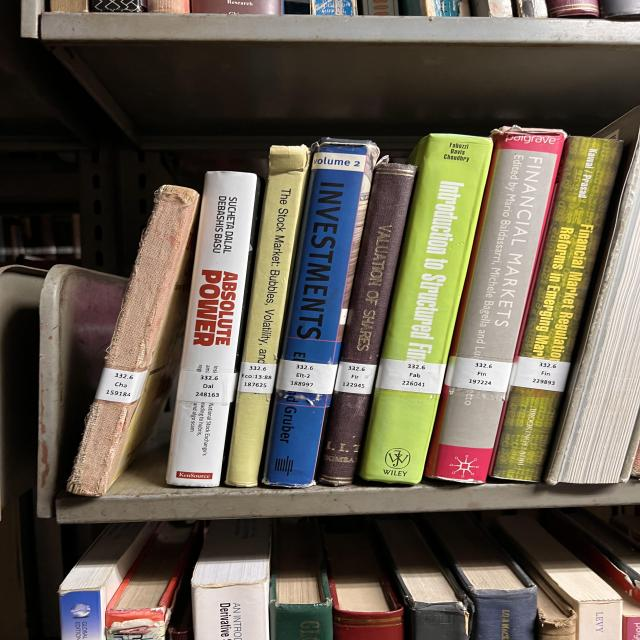Book: (425, 126, 567, 484), (360, 134, 492, 484), (493, 136, 623, 481), (67, 185, 200, 496), (262, 139, 380, 488), (318, 162, 417, 486), (225, 145, 310, 488), (167, 171, 258, 488)
Label: (377, 359, 447, 394), (448, 356, 512, 392), (277, 359, 338, 394), (512, 356, 570, 392), (177, 370, 237, 404), (95, 368, 148, 404), (335, 361, 377, 394), (238, 362, 277, 394)
